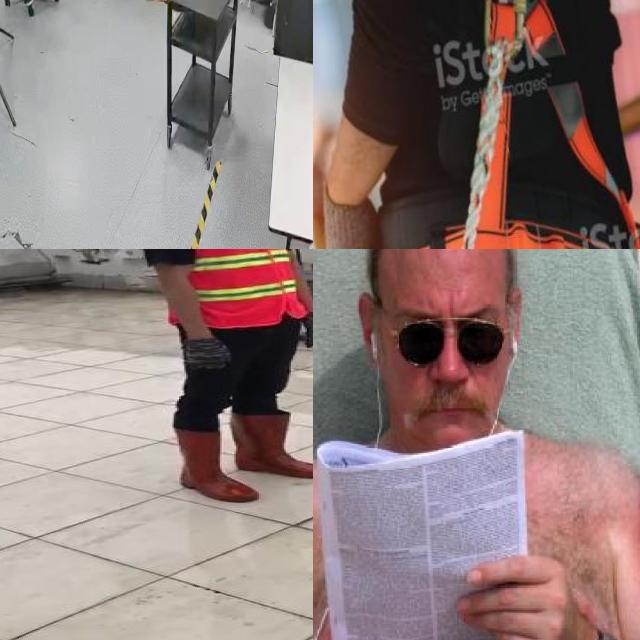Harness: (446, 28, 562, 249)
boots: (160, 424, 262, 505), (234, 408, 313, 478)
face_nomask: (376, 288, 513, 444)
glasses: (371, 277, 515, 363)
hand_glove: (177, 336, 234, 373), (292, 312, 313, 352)
hand_noglove: (451, 548, 588, 640)
person: (313, 249, 640, 640), (117, 249, 313, 511)
shoes: (18, 0, 38, 13)
vest: (147, 249, 305, 329)
